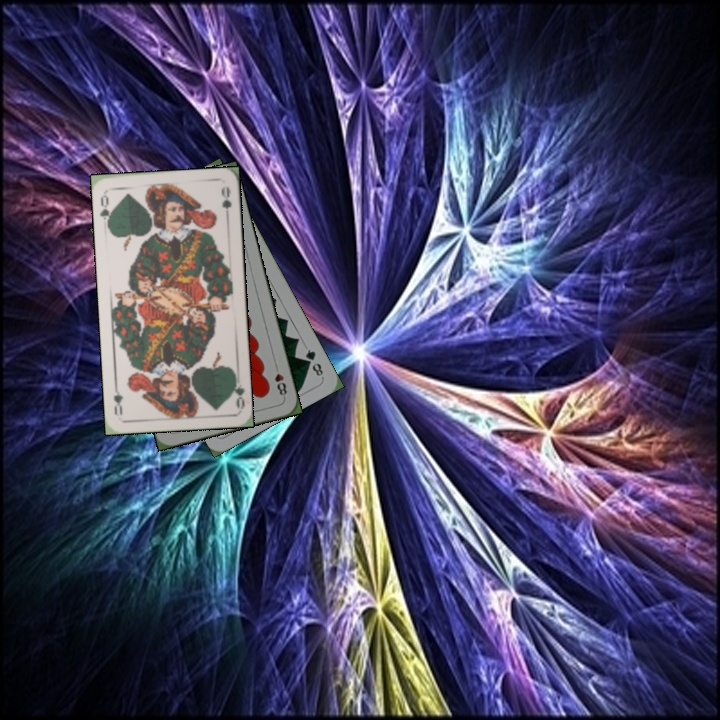G8: (301, 345, 326, 379)
GO: (227, 370, 247, 411), (96, 189, 115, 230)
H8: (271, 361, 289, 401)
